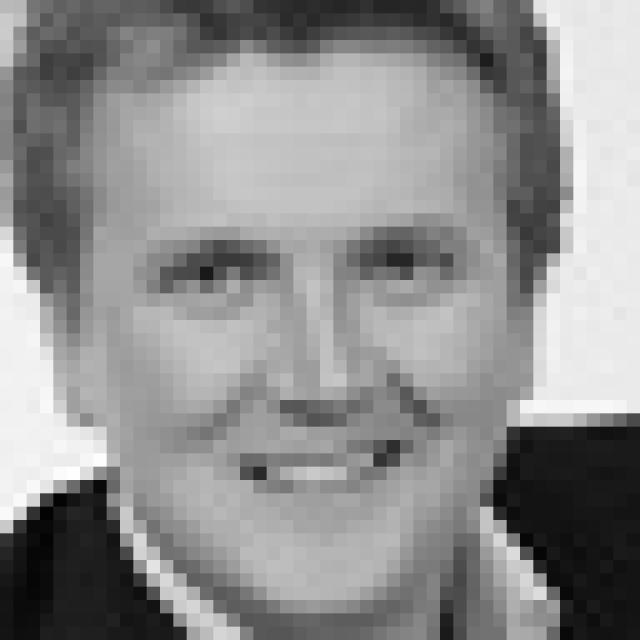happy: (140, 204, 484, 546)
